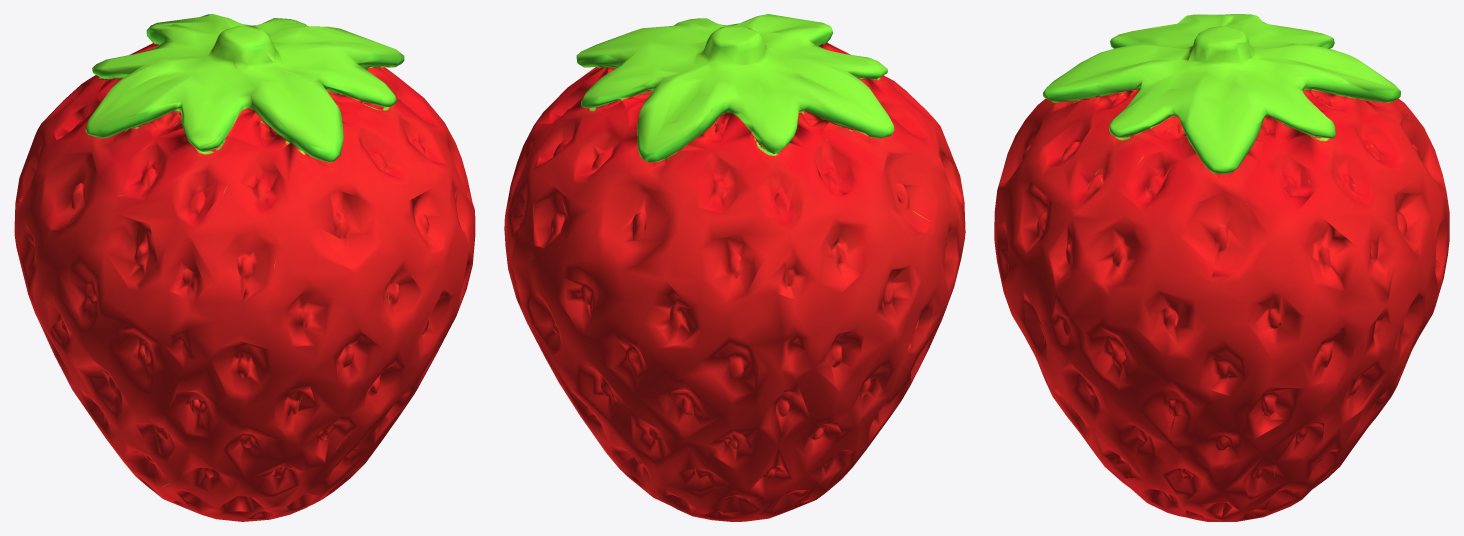
The picture shows the model from 3 angles, left to right: view 1: azimuth 30°, elevation 25°; view 2: azimuth 150°, elevation 25°; view 3: azimuth 270°, elevation 25°; orthographic projection.
Parts seen in each view (by area): view 1: Meshy_AI_Large_Strawberry_Squi_0803101915_image-to-3d-texture; view 2: Meshy_AI_Large_Strawberry_Squi_0803101915_image-to-3d-texture; view 3: Meshy_AI_Large_Strawberry_Squi_0803101915_image-to-3d-texture.
Boxes of the visible parts, x1,y1,x2,y2 form: Meshy_AI_Large_Strawberry_Squi_0803101915_image-to-3d-texture: [14, 14, 475, 521]; Meshy_AI_Large_Strawberry_Squi_0803101915_image-to-3d-texture: [504, 14, 965, 521]; Meshy_AI_Large_Strawberry_Squi_0803101915_image-to-3d-texture: [994, 14, 1449, 521].
Size of the model in its own units: 1.68 by 1.9 by 1.69.
Materials: 1 (1 with a texture image).
